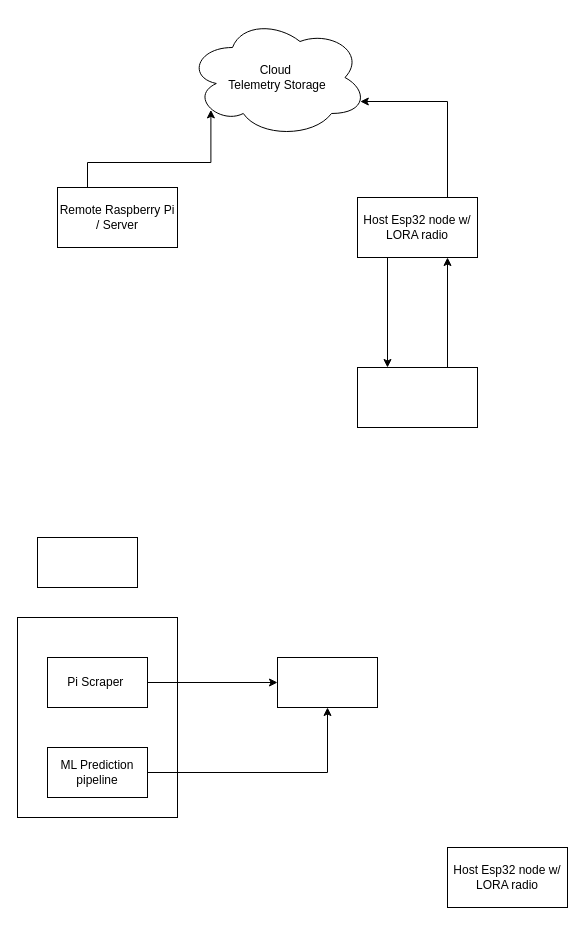
This 585x925 diagram has some shape labels left out. The shapes that lost their labels are listed below. From the top down, each one's centre as x and y in pixels, then its label:
At pixel 417 397: "Wearable w/ LORA radio".
At pixel 87 562: "TransLoc API".
At pixel 327 682: "Supabase DB".
